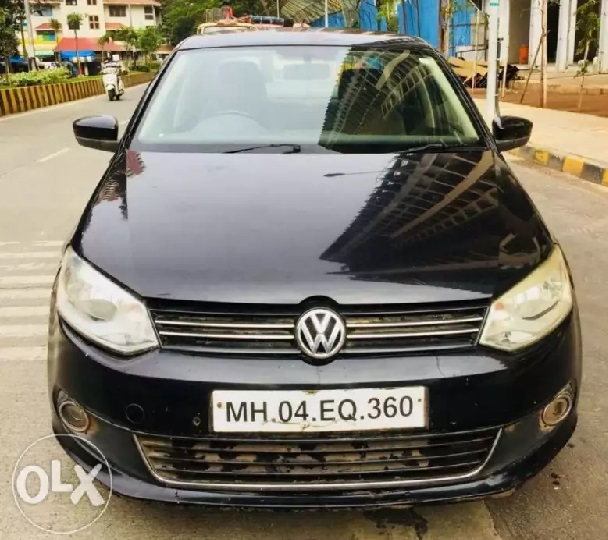licenseplate: (211, 389, 430, 438)
